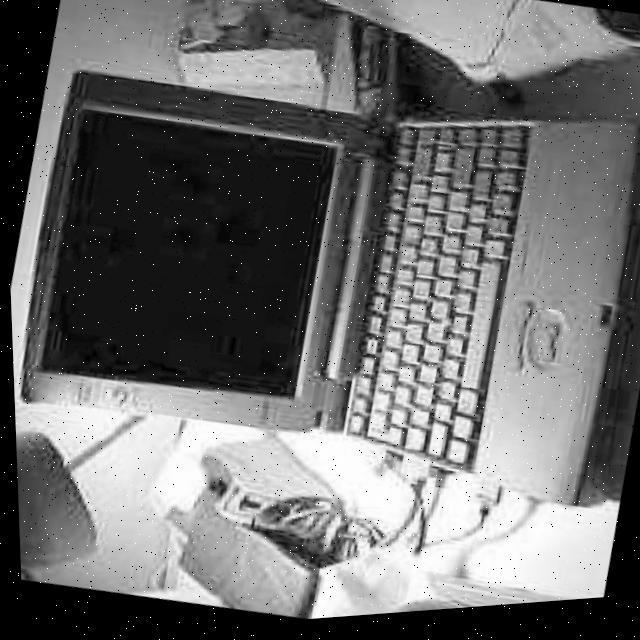laptop: (10, 15, 640, 540)
